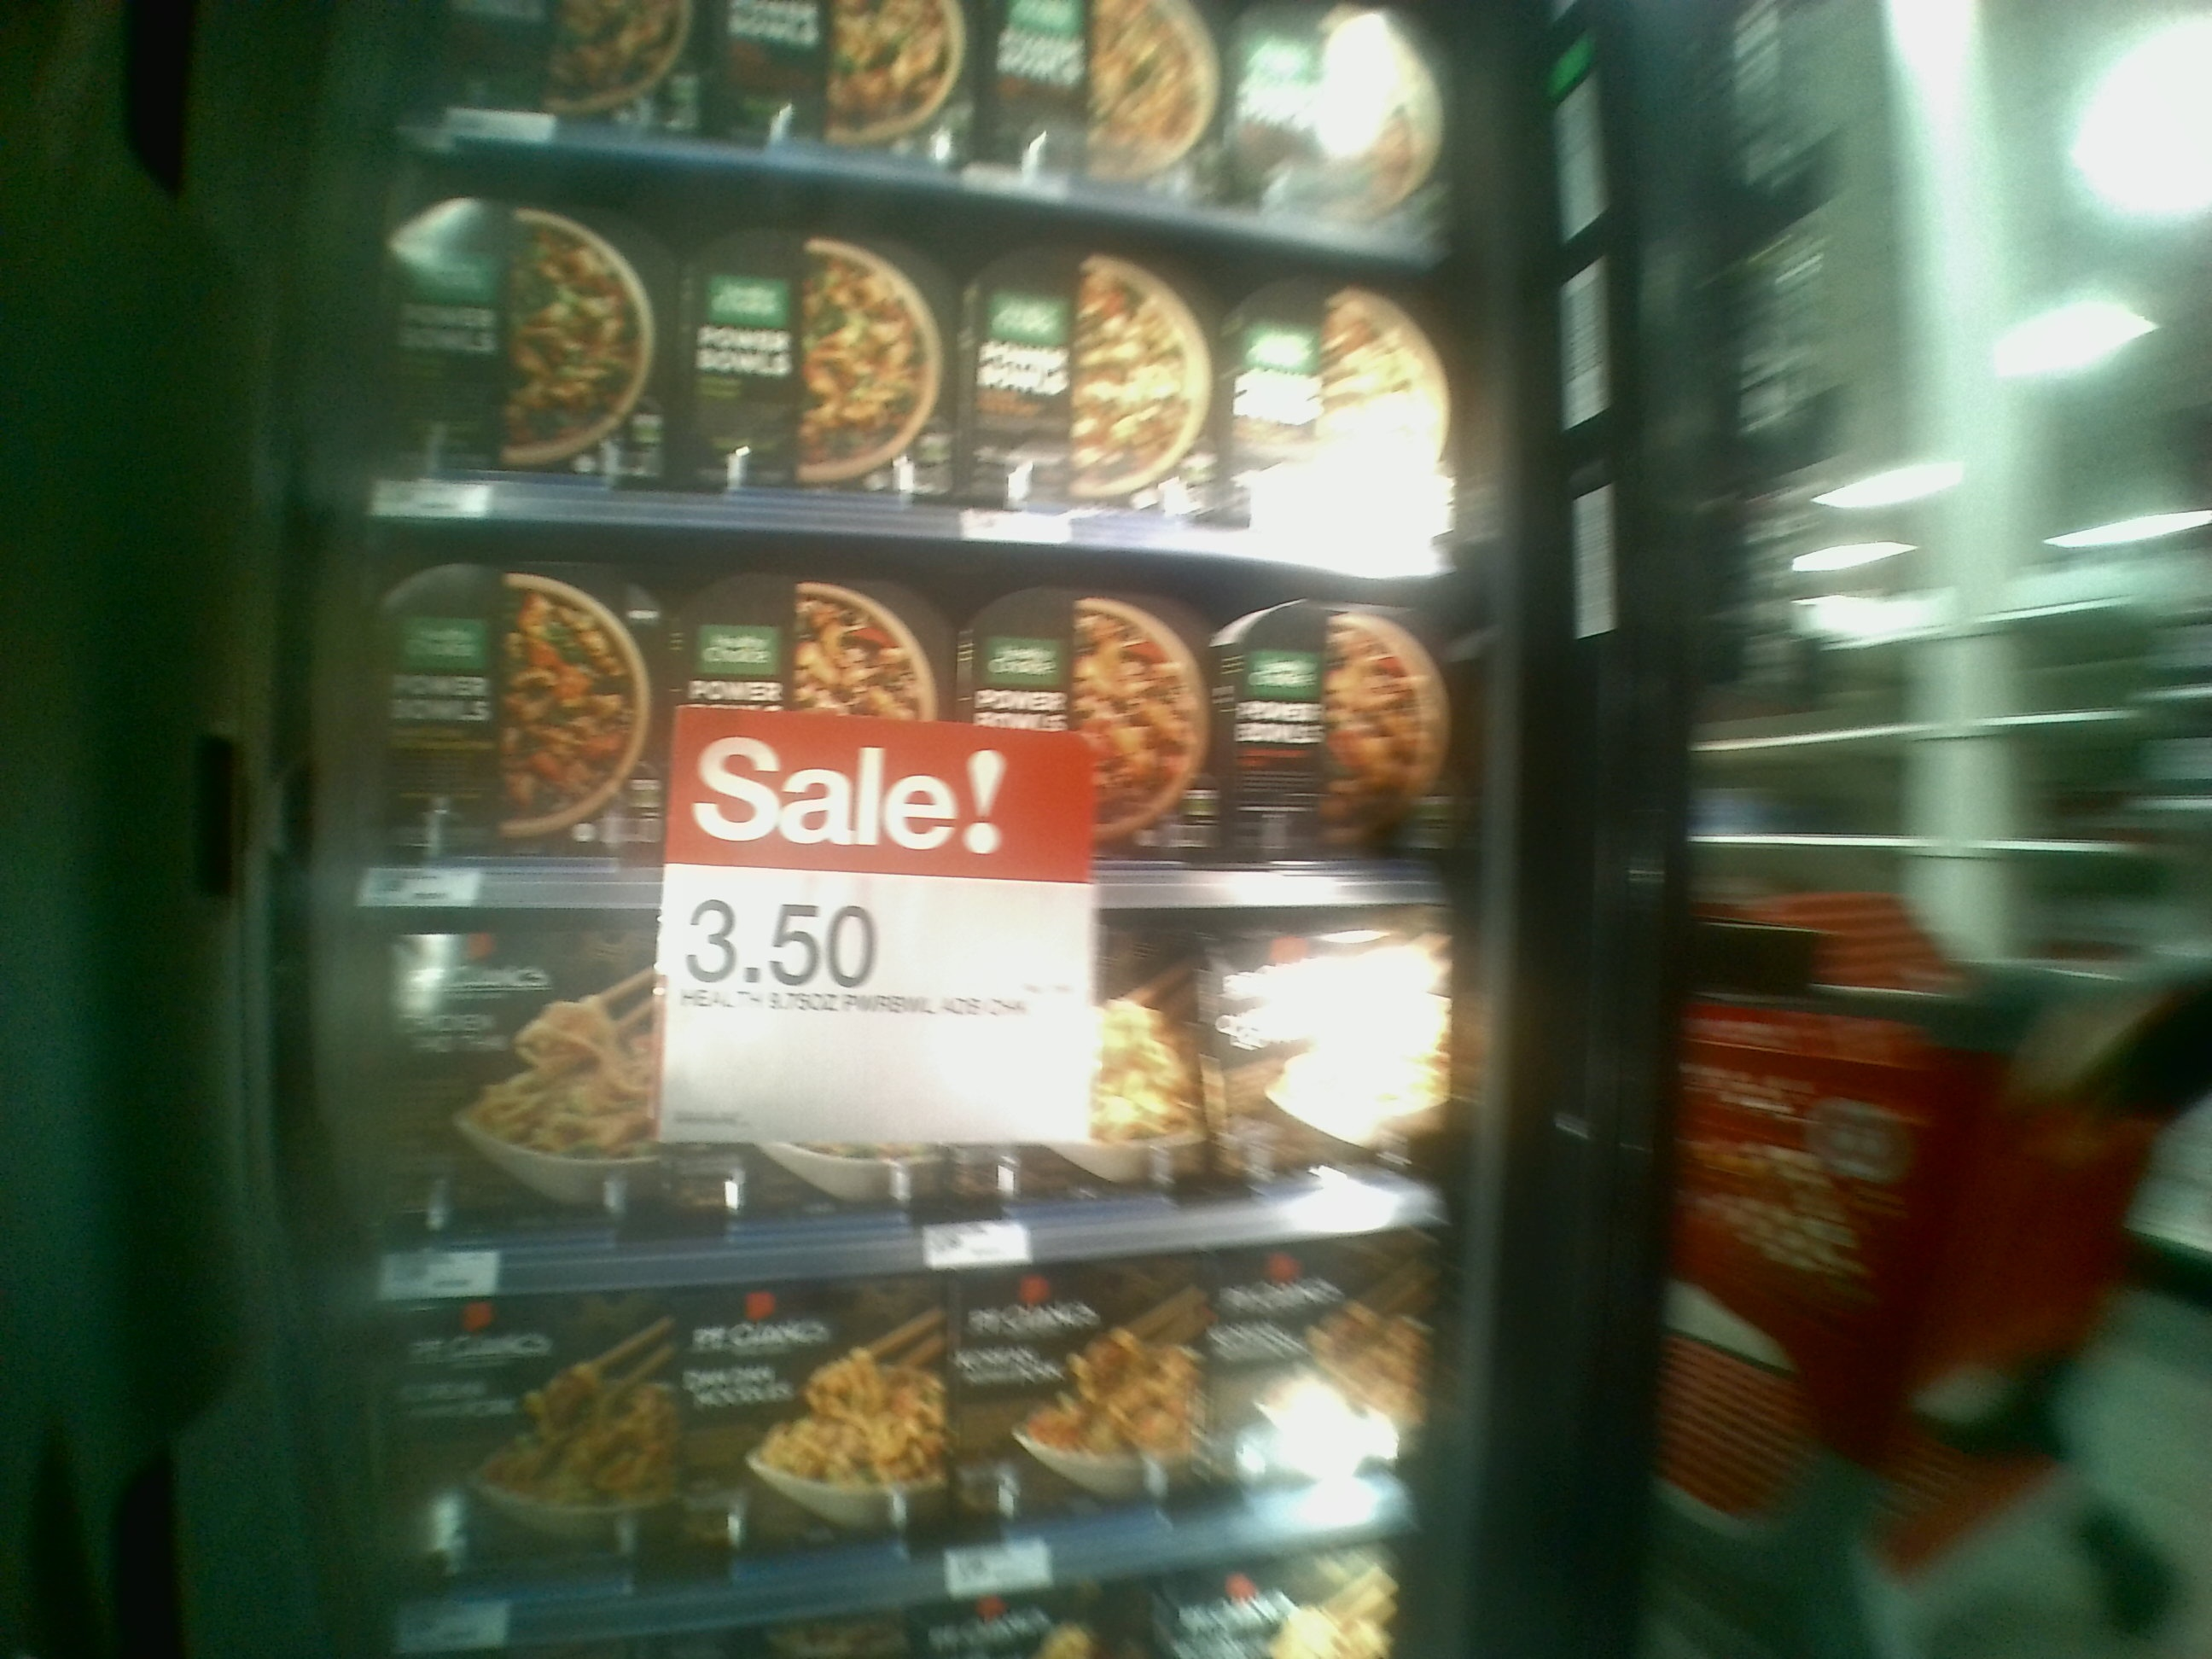shelf: (348, 505, 1489, 922)
